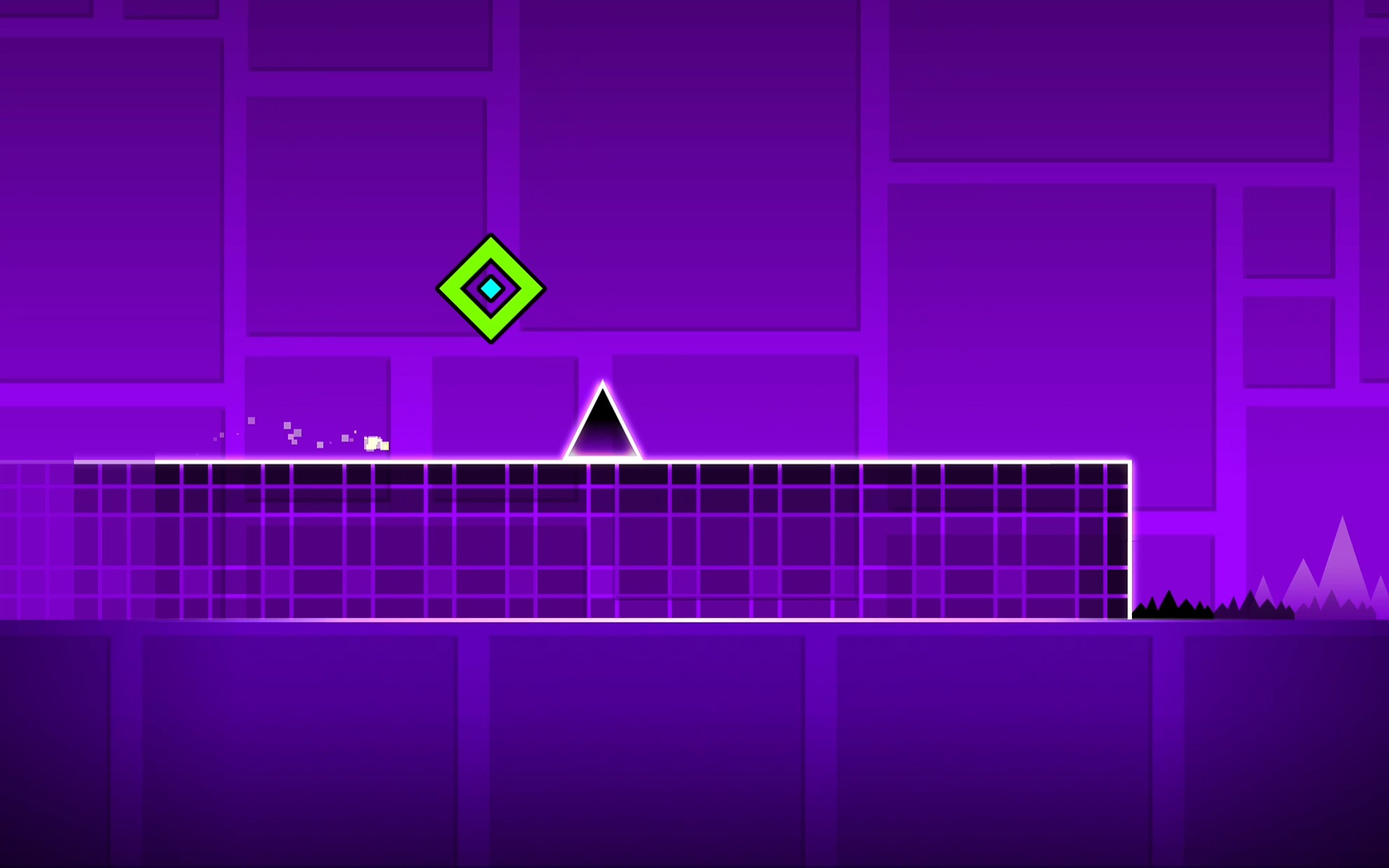Block2: (0, 461, 1132, 618)
Player: (436, 234, 545, 342)
Spike: (570, 387, 636, 456)
Spike2: (1136, 577, 1389, 620)
